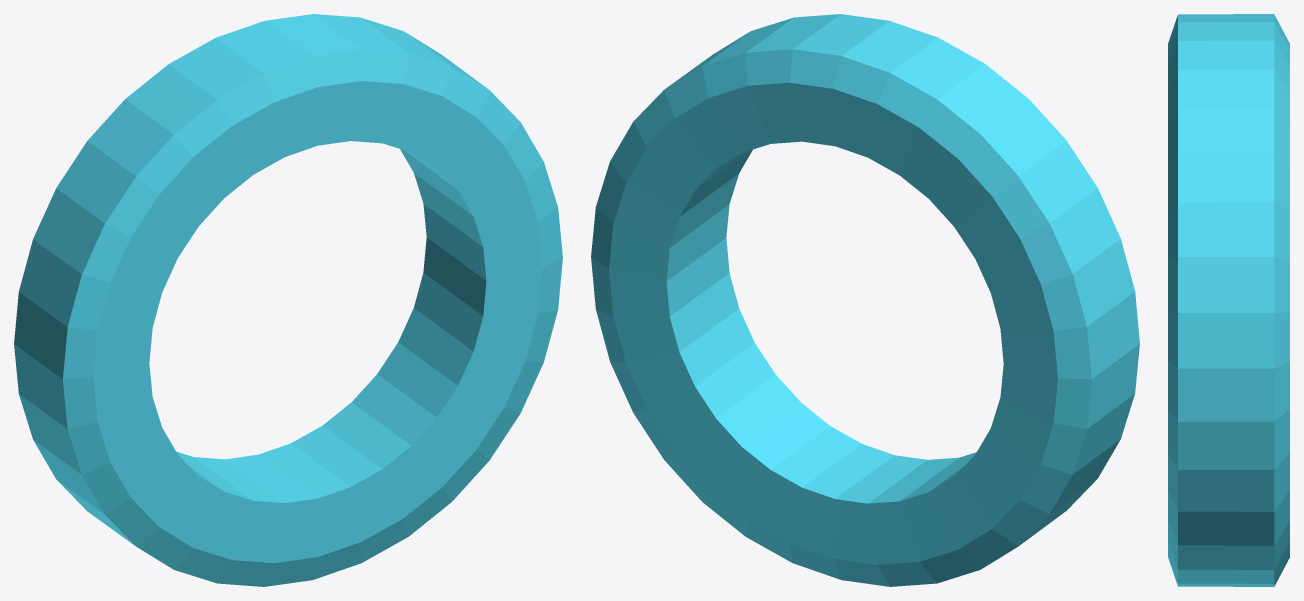
Rendered from SerraCentral.fbx.
3 renders of one model, left to right at view 1: azimuth 30°, elevation 25°; view 2: azimuth 150°, elevation 25°; view 3: azimuth 270°, elevation 25°, orthographic.
Parts seen in each view (by area): view 1: Serra Base; view 2: Serra Base; view 3: Serra Base.
Part boxes in pixels (x1=…): Serra Base: x1=14, y1=14, x2=562, y2=586; Serra Base: x1=591, y1=14, x2=1139, y2=586; Serra Base: x1=1168, y1=14, x2=1289, y2=586.
Size of the model in its own units: 107 by 107 by 22.66.
